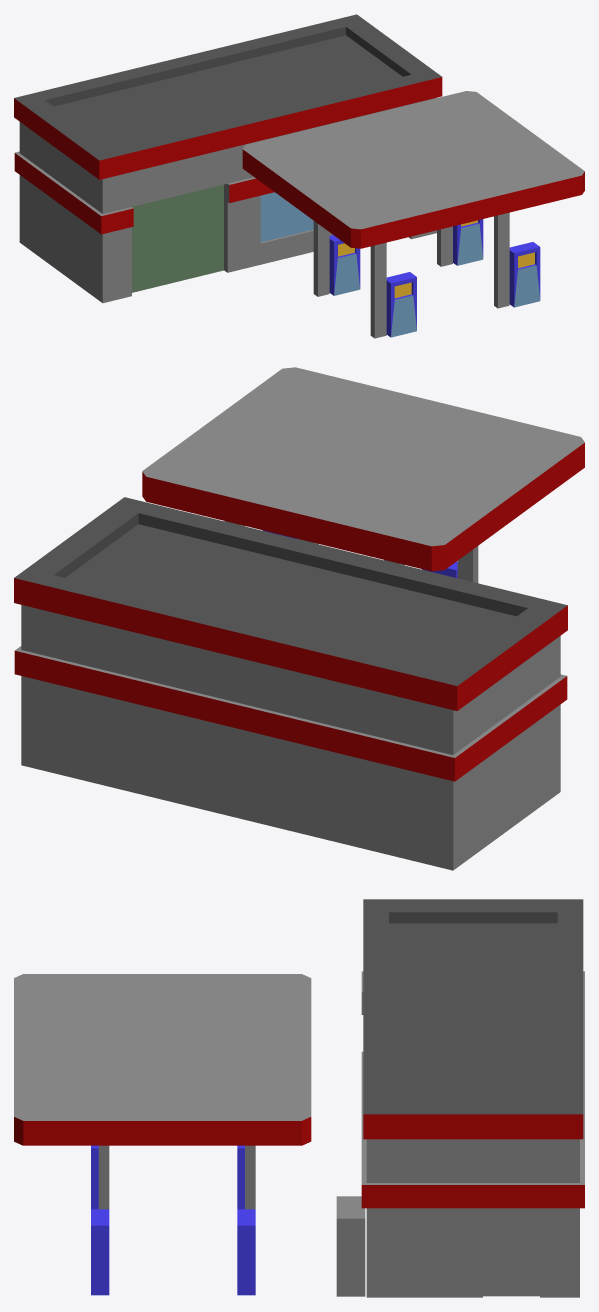
File: BensinStasjon.FBX
3 renders of one model, top to bottom at view 1: azimuth 30°, elevation 25°; view 2: azimuth 150°, elevation 25°; view 3: azimuth 270°, elevation 25°, orthographic. The views are drawn at different scales.
Parts seen in each view (by area): view 1: Box01; view 2: Box01; view 3: Box01.
Part boxes in pixels (x1,y1,x2,y2): Box01: [14, 14, 584, 338]; Box01: [14, 367, 584, 870]; Box01: [14, 899, 584, 1297].
Size of the model in its own units: 2523 by 988 by 2748.
